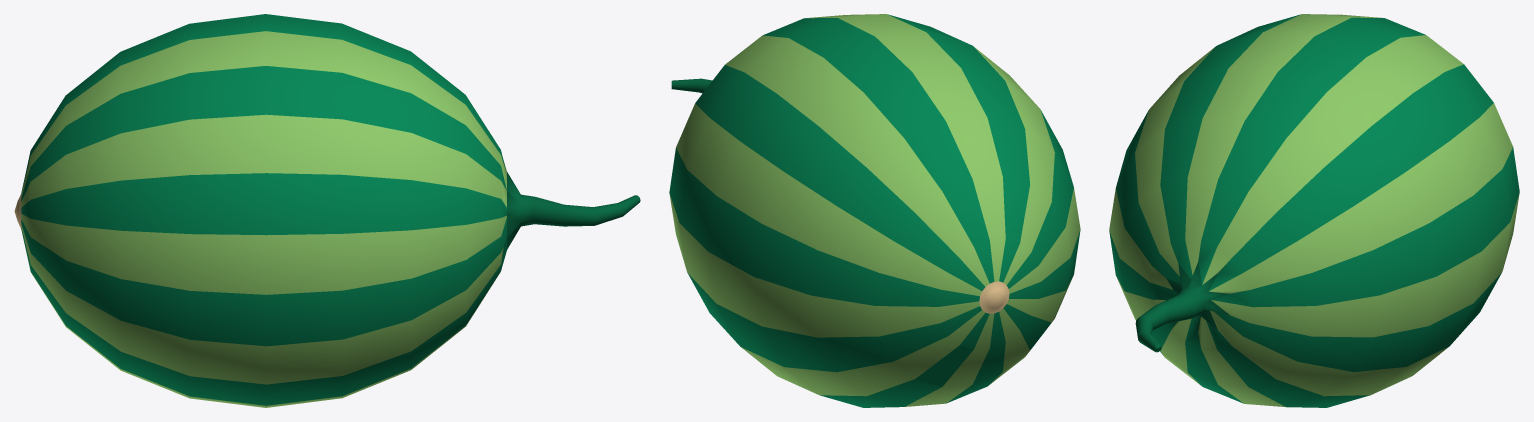
Rendered from SM_Fruits_Watermelon_1.fbx.
3 renders of one model, left to right at view 1: azimuth 30°, elevation 25°; view 2: azimuth 150°, elevation 25°; view 3: azimuth 270°, elevation 25°, orthographic. The views are drawn at different scales.
Parts seen in each view (by area): view 1: SM_Fruits_Watermelon_1; view 2: SM_Fruits_Watermelon_1; view 3: SM_Fruits_Watermelon_1.
Part boxes in pixels (x1=…): SM_Fruits_Watermelon_1: x1=14, y1=14, x2=640, y2=407; SM_Fruits_Watermelon_1: x1=669, y1=14, x2=1080, y2=407; SM_Fruits_Watermelon_1: x1=1109, y1=14, x2=1519, y2=407.
Size of the model in its own units: 46.35 by 32.19 by 34.31.
